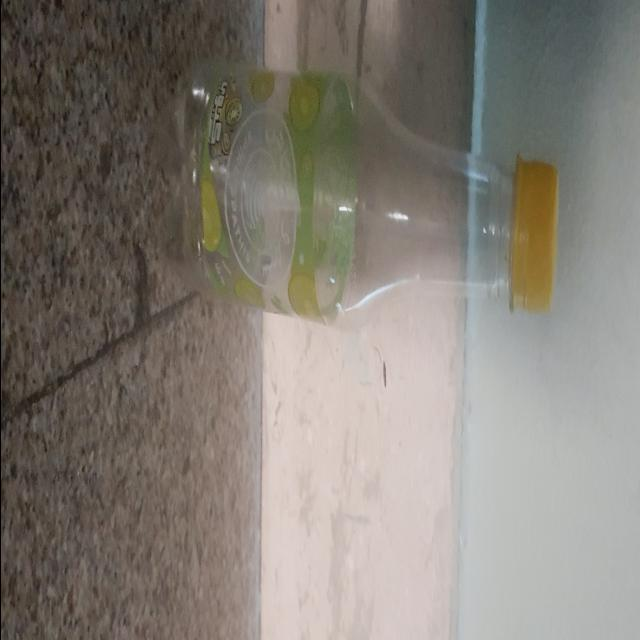plastic: (180, 64, 554, 324)
